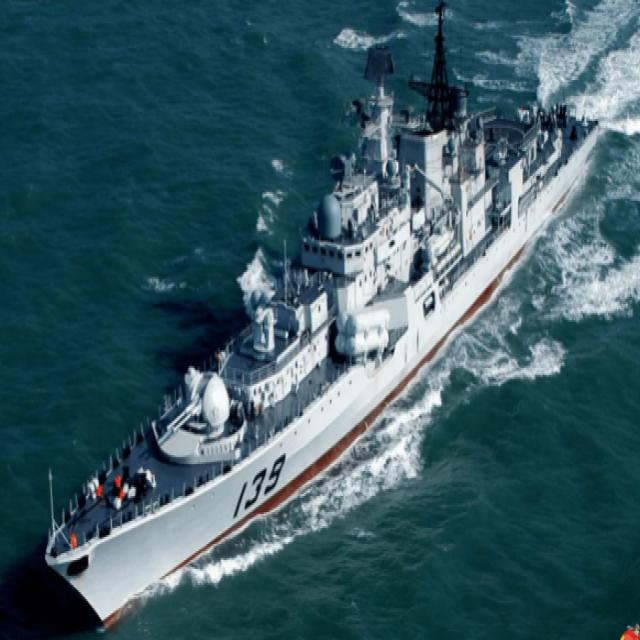navalvessels: (42, 34, 606, 630)
